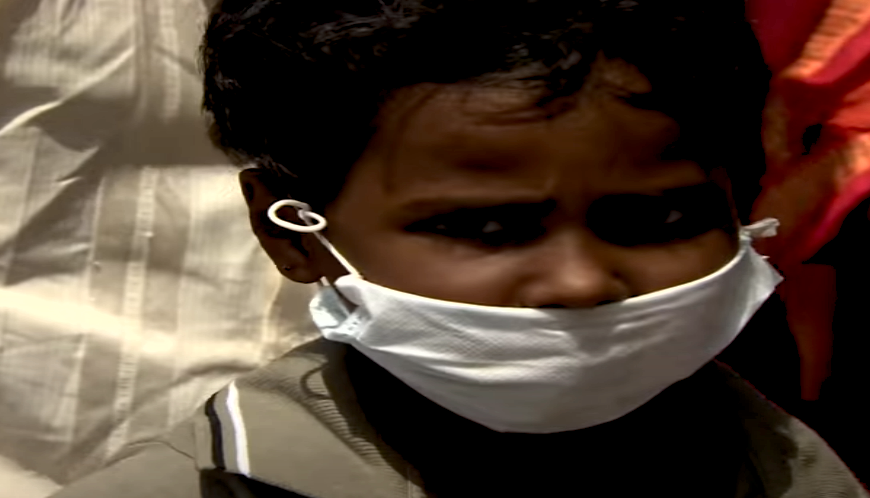mask_weared_incorrect: (250, 7, 785, 436)
